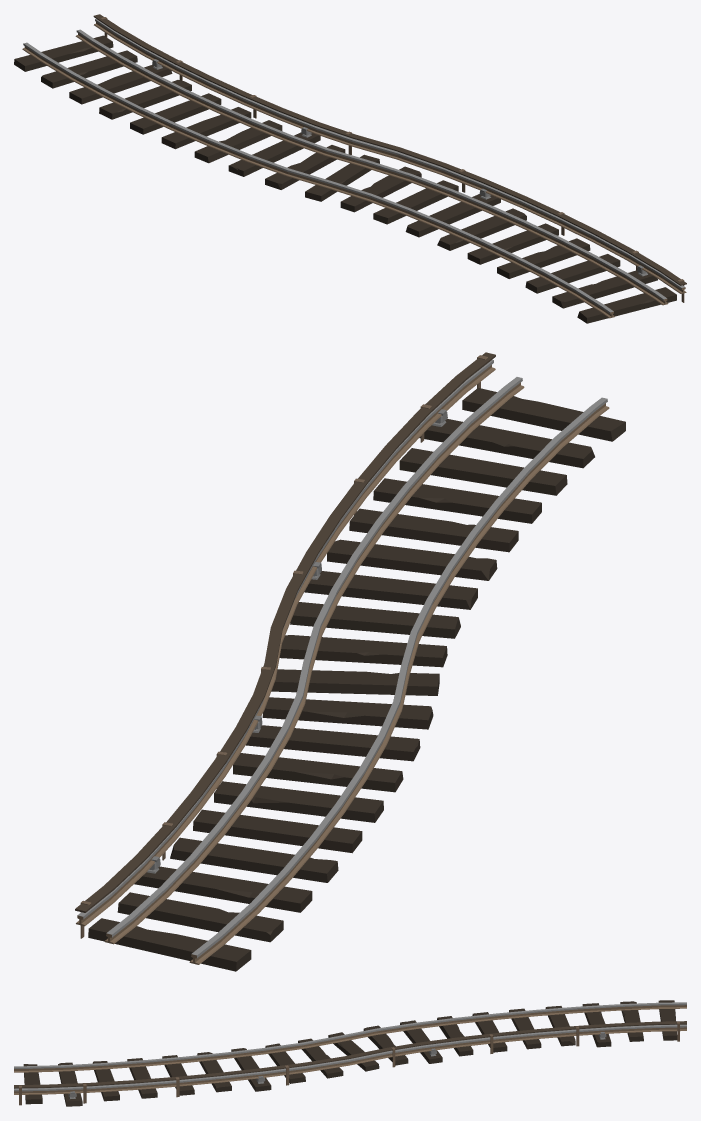
Rendered from SW_ENV_Track_SingleJog_20m_Left.fbx.
3 renders of one model, top to bottom at view 1: azimuth 30°, elevation 25°; view 2: azimuth 150°, elevation 25°; view 3: azimuth 270°, elevation 25°, orthographic. The views are drawn at different scales.
Parts seen in each view (by area): view 1: SW_ENV_Track_SingleJog_20m_Left; view 2: SW_ENV_Track_SingleJog_20m_Left; view 3: SW_ENV_Track_SingleJog_20m_Left.
Boxes of the visible parts, x1=… form: SW_ENV_Track_SingleJog_20m_Left: x1=14, y1=14, x2=686, y2=323; SW_ENV_Track_SingleJog_20m_Left: x1=75, y1=352, x2=625, y2=971; SW_ENV_Track_SingleJog_20m_Left: x1=14, y1=1000, x2=686, y2=1106.
Bounding box in the file's own units: 716 × 58.74 × 2000.
